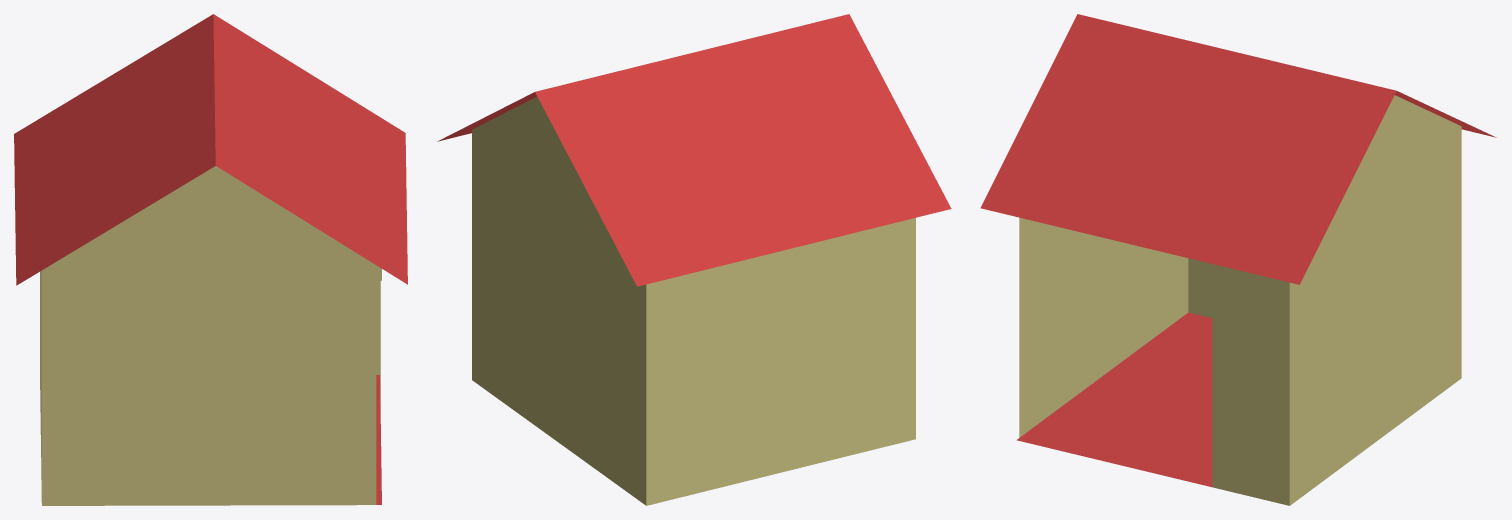
3 renders of one model, left to right at view 1: azimuth 30°, elevation 25°; view 2: azimuth 150°, elevation 25°; view 3: azimuth 270°, elevation 25°, orthographic. The views are drawn at different scales.
Visible parts, largest first — view 1: group_5, group_3, group_4, group_6; view 2: group_5, group_3, group_4; view 3: group_5, group_3, group_6, group_4.
Boxes of the visible parts, x1=… form: group_5: x1=40, y1=166, x2=381, y2=505; group_3: x1=14, y1=14, x2=407, y2=284; group_4: x1=14, y1=14, x2=331, y2=285; group_6: x1=376, y1=375, x2=381, y2=504; group_5: x1=472, y1=96, x2=915, y2=505; group_3: x1=497, y1=14, x2=915, y2=286; group_4: x1=437, y1=14, x2=951, y2=286; group_5: x1=1019, y1=95, x2=1461, y2=505; group_3: x1=980, y1=14, x2=1491, y2=284; group_6: x1=1016, y1=312, x2=1212, y2=487; group_4: x1=1077, y1=14, x2=1496, y2=204.
Size of the model in its own units: 15.09 by 14.74 by 11.27.
